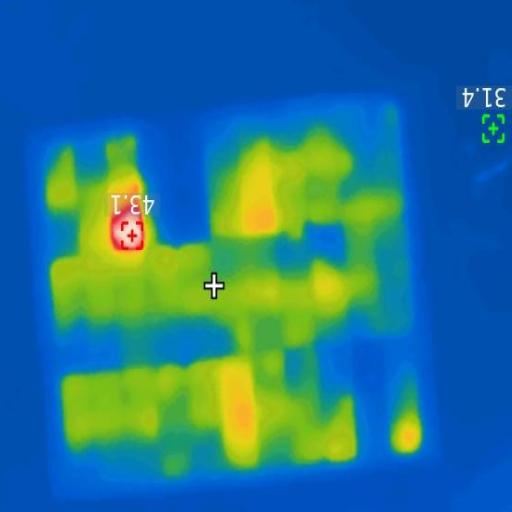hotspot: (107, 202, 147, 253)
